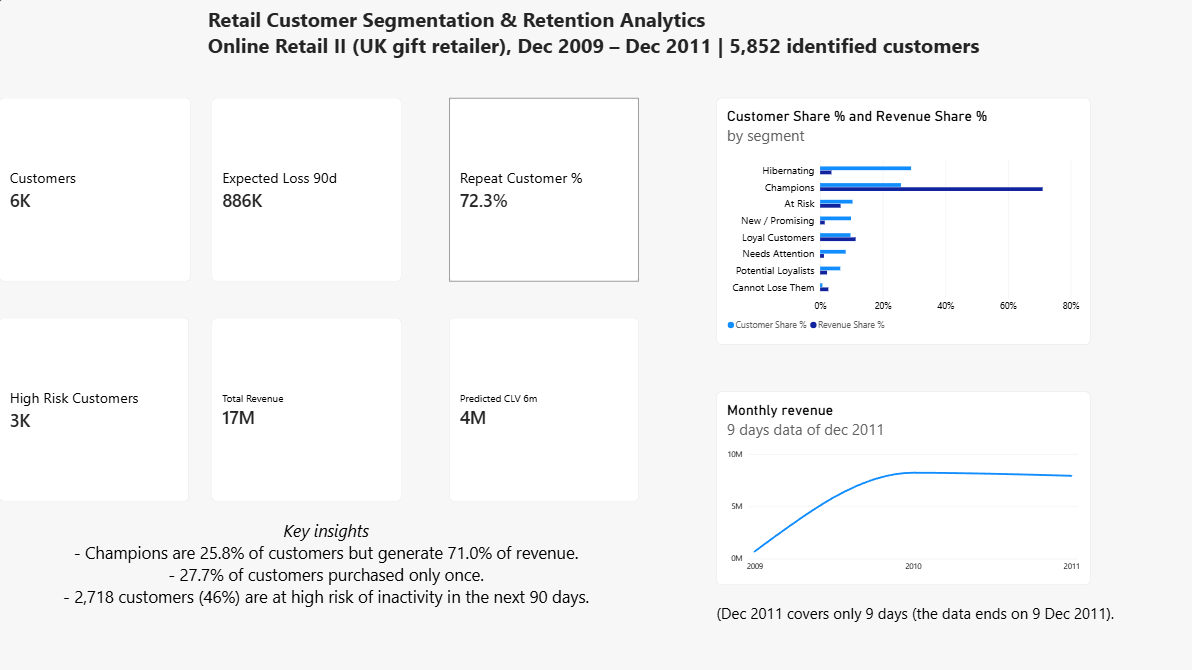

The dashboard page shown, as its layout file describes it:
{"tool":"powerbi","page":{"name":"Overview","canvas":[1920,1080],"ordinal":0},"visuals":[{"type":"cardVisual","fields":{"Data":["_Measuress.Customers"]},"box":[0,157.5,307.3,294.3],"z":0},{"type":"cardVisual","fields":{"Data":["_Measuress.Total Revenue"]},"box":[339,509.9,304,294],"z":1000},{"type":"cardVisual","fields":{"Data":["_Measuress.High Risk Customers"]},"box":[0,509.9,304,294],"z":2000},{"type":"cardVisual","fields":{"Data":["_Measuress.Predicted CLV 6m"]},"box":[720.8,509.9,304,294],"z":3000},{"type":"cardVisual","fields":{"Data":["_Measuress.Expected Loss 90d"]},"box":[339,157.5,304,294.3],"z":4000},{"type":"cardVisual","fields":{"Data":["_Measuress.Repeat Customer %"]},"box":[720.8,157.5,304,294],"z":5000},{"type":"lineChart","title":"Monthly revenue","fields":{"Category":["monthly_summary.month_start.Variation.Date Hierarchy.Year","monthly_summary.month_start.Variation.Date Hierarchy.Quarter","monthly_summary.month_start.Variation.Date Hierarchy.Month","monthly_summary.month_start.Variation.Date Hierarchy.Day"],"Y":["Sum(monthly_summary.revenue)"]},"box":[1148,627.4,598,309.7],"z":6000},{"type":"clusteredBarChart","fields":{"Category":["customer_360.segment"],"Y":["_Measuress.Customer Share %","_Measuress.Revenue Share %"]},"box":[1148,157.5,598,395.1],"z":7000},{"type":"textbox","box":[1073.2,213.6,712.8,117.5],"z":8000},{"type":"textbox","box":[1646,193,150,396],"z":8001},{"type":"textbox","box":[333.7,10.7,1388.2,165.5],"z":8002},{"type":"textbox","box":[1148,966.4,638.1,72.1],"z":8003},{"type":"textbox","box":[0,832.9,1046.5,248.3],"z":8004}]}

Visuals, with their boxes in screenshot pixels (x1, y1, x2, y2), scaled from the page's 1920x1080 canvas onto the 1192x670 screenshot:
cardVisual - _Measuress.Customers: x1=0 y1=98 x2=191 y2=280
cardVisual - _Measuress.Total Revenue: x1=210 y1=316 x2=399 y2=499
cardVisual - _Measuress.High Risk Customers: x1=0 y1=316 x2=189 y2=499
cardVisual - _Measuress.Predicted CLV 6m: x1=447 y1=316 x2=636 y2=499
cardVisual - _Measuress.Expected Loss 90d: x1=210 y1=98 x2=399 y2=280
cardVisual - _Measuress.Repeat Customer %: x1=447 y1=98 x2=636 y2=280
"Monthly revenue" lineChart: x1=713 y1=389 x2=1084 y2=581
clusteredBarChart - customer_360.segment x _Measuress.Customer Share %: x1=713 y1=98 x2=1084 y2=343
textbox: x1=666 y1=133 x2=1109 y2=205
textbox: x1=1022 y1=120 x2=1115 y2=365
textbox: x1=207 y1=7 x2=1069 y2=109
textbox: x1=713 y1=600 x2=1109 y2=644
textbox: x1=0 y1=517 x2=650 y2=669
